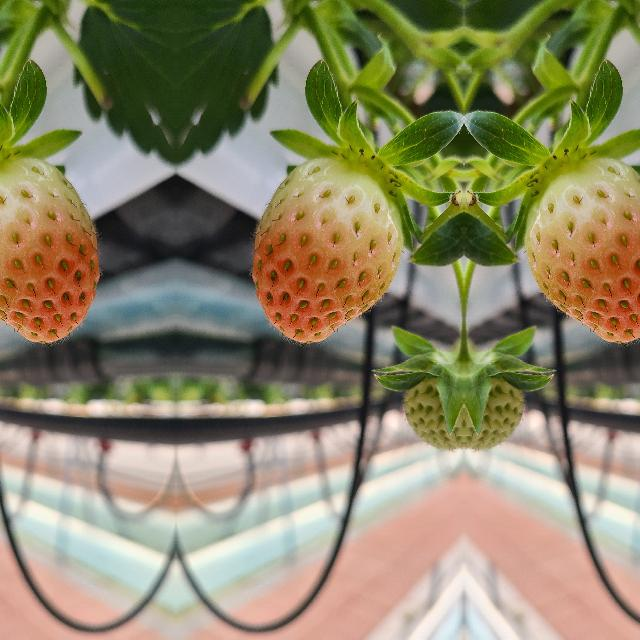Health_25: (391, 348, 463, 452), (463, 348, 535, 452)
Health_75: (252, 157, 402, 340), (524, 157, 640, 340), (0, 157, 98, 340)
